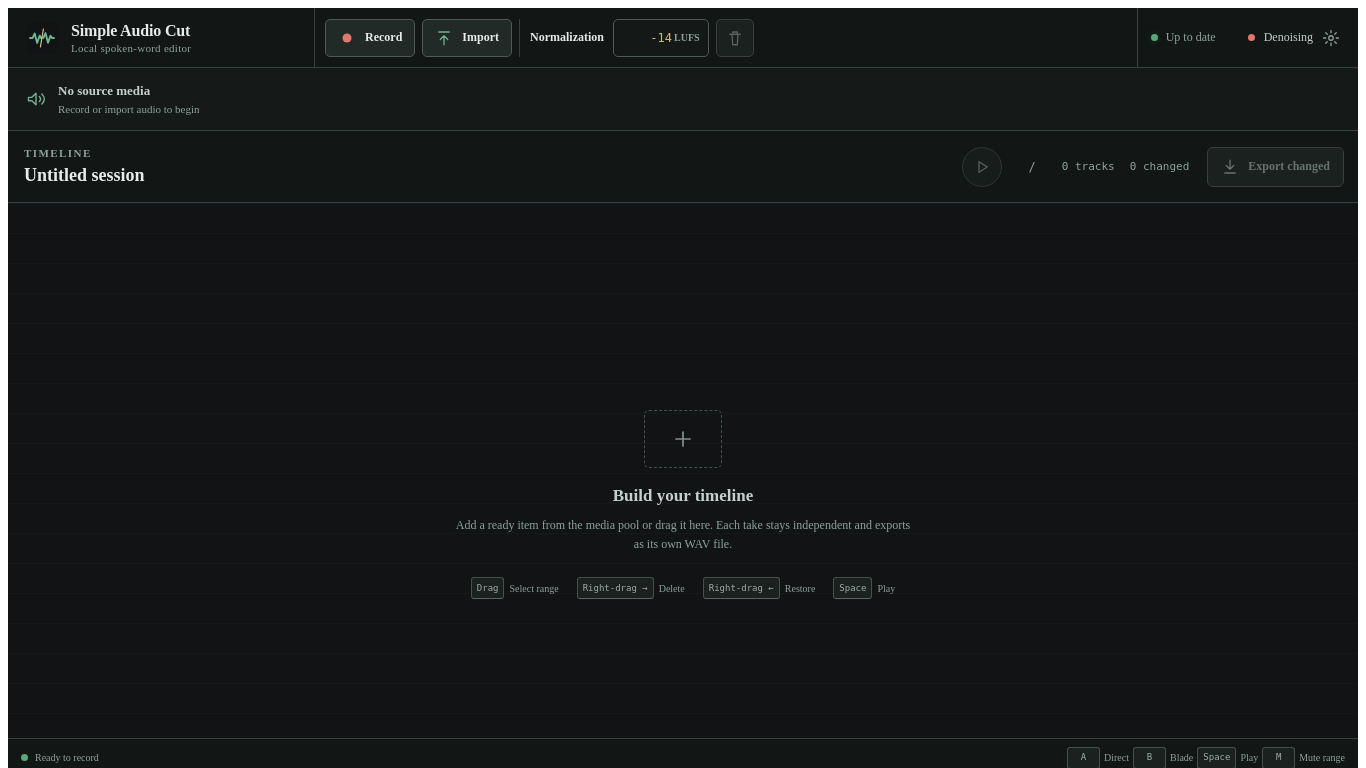
Scenario: App deletion controls › uses the header delete button only for the selected timeline track
The image size is (1366, 768).
Step 1. Click the button "Import" → (467, 38), box x1=422 y1=18 x2=512 y2=56
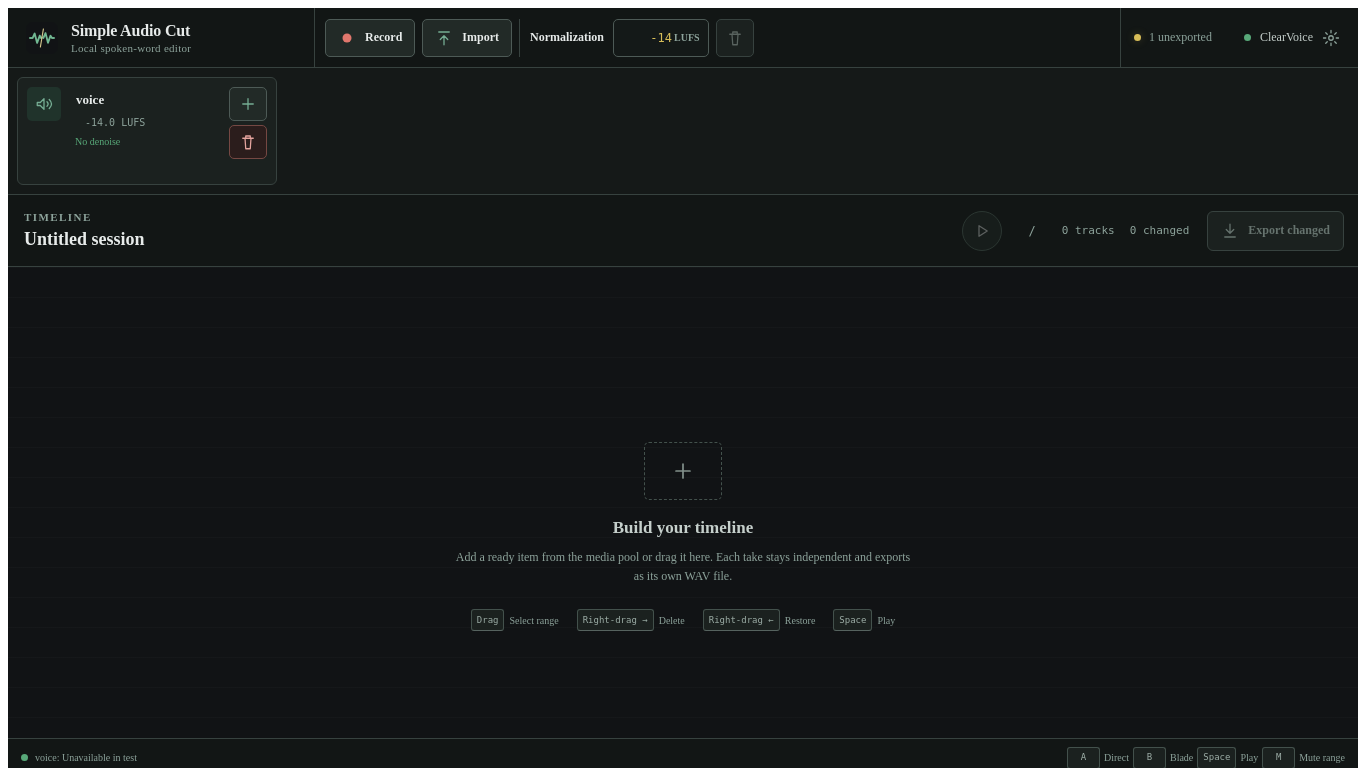
Result: the field showing "voice" is shown at x1=71 y1=87 x2=229 y2=113
Result: the button named "Add voice to timeline" is shown
Step 2. Click the button named "Add voice to timeline" → (248, 104), box x1=229 y1=87 x2=267 y2=121
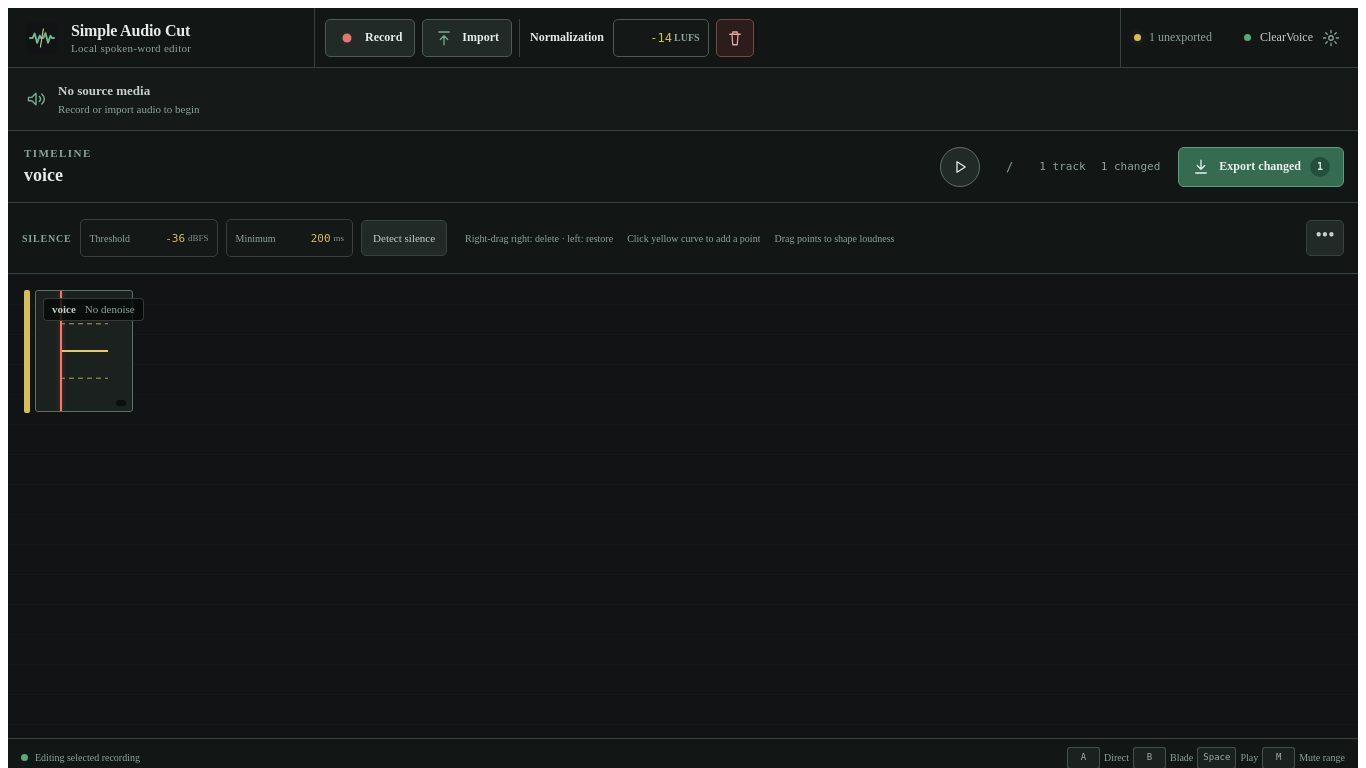
Step 3. Click the button named "Delete selected timeline track" → (735, 38), box x1=716 y1=18 x2=754 y2=56
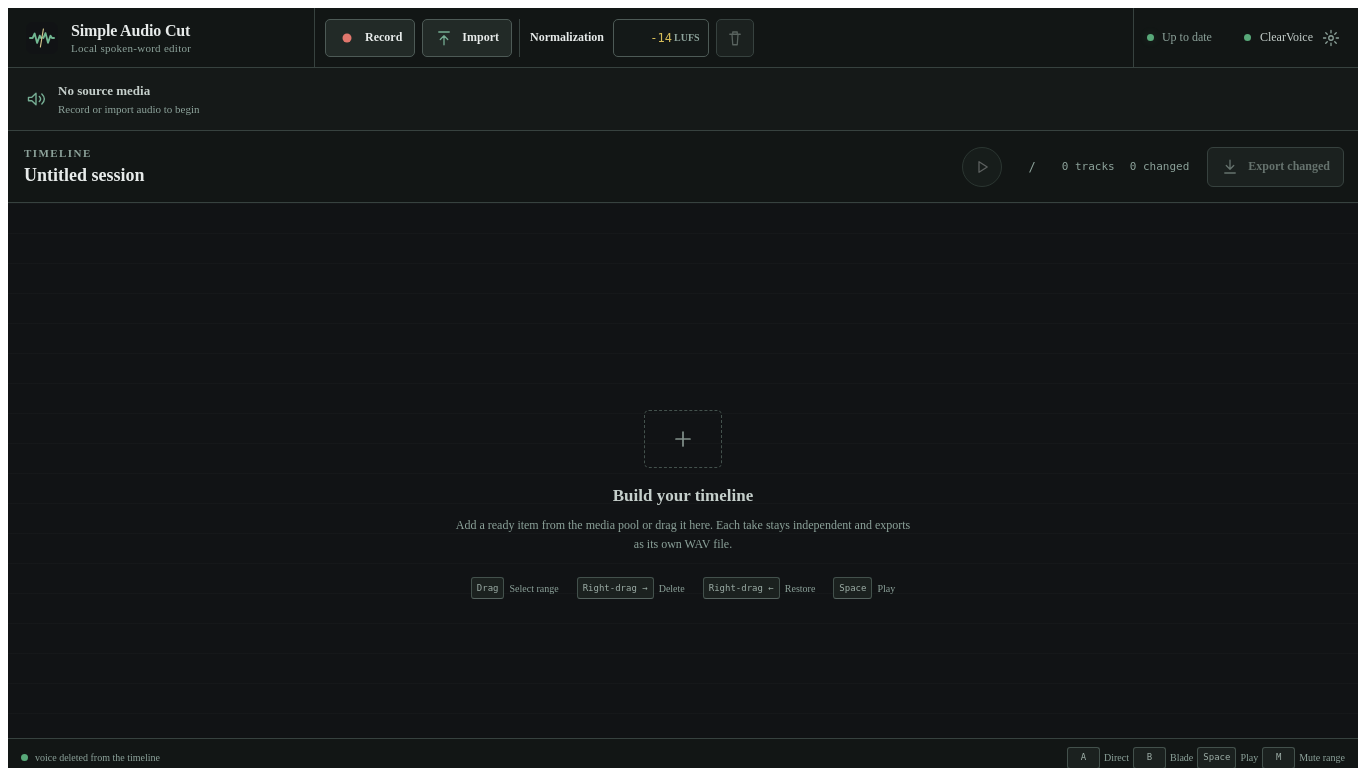
Result: the heading "Build your timeline" is shown at x1=613 y1=486 x2=753 y2=506
